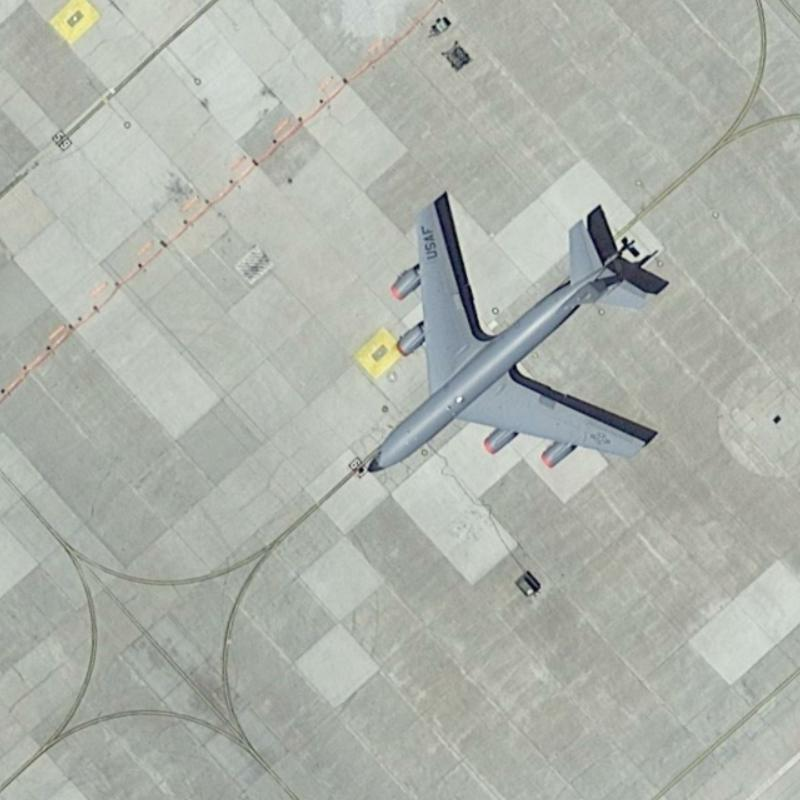A14: (355, 188, 672, 475)
